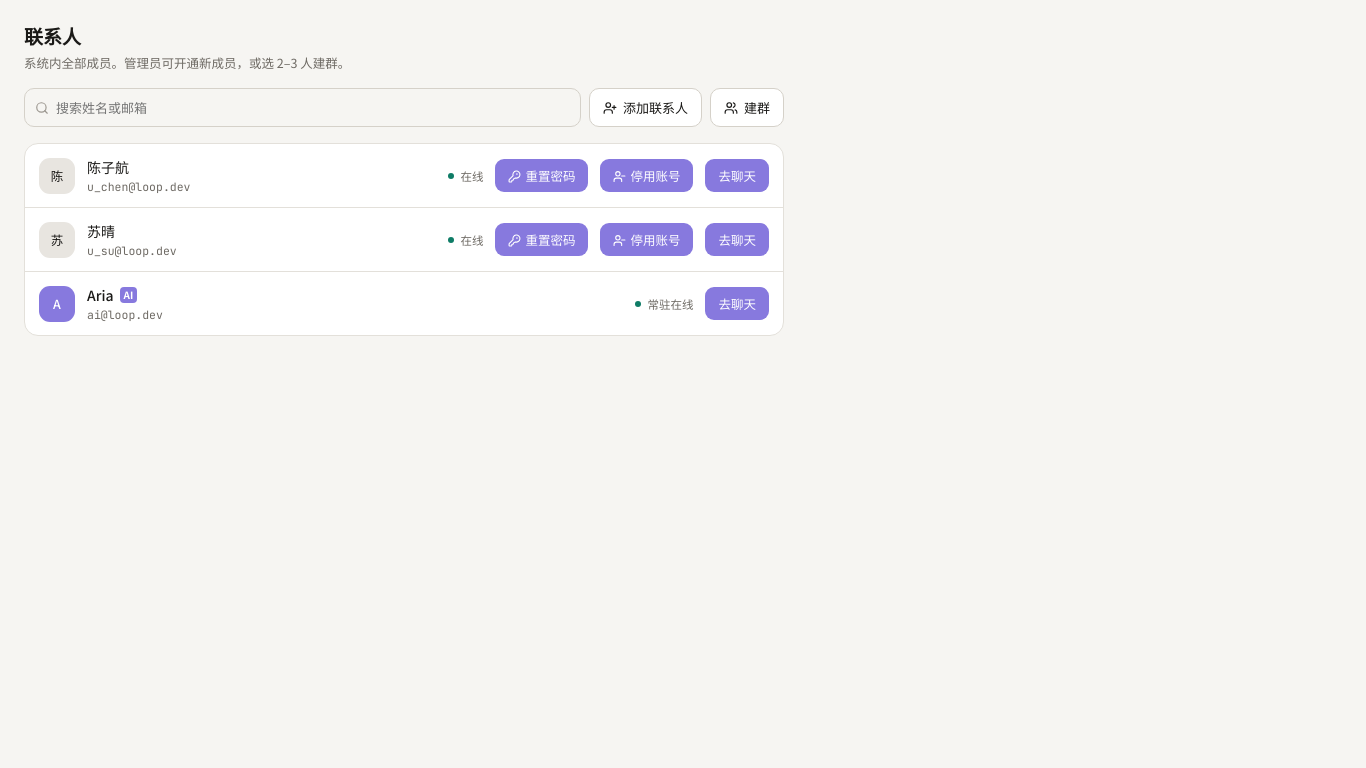
Scenario: 重置弹窗 › 取消不会调接口
The width and height of the screenshot is (1366, 768).
Click the button "重置密码" in the row of "u_chen@loop.dev" at (542, 176), box left=496, top=159, right=588, bottom=192
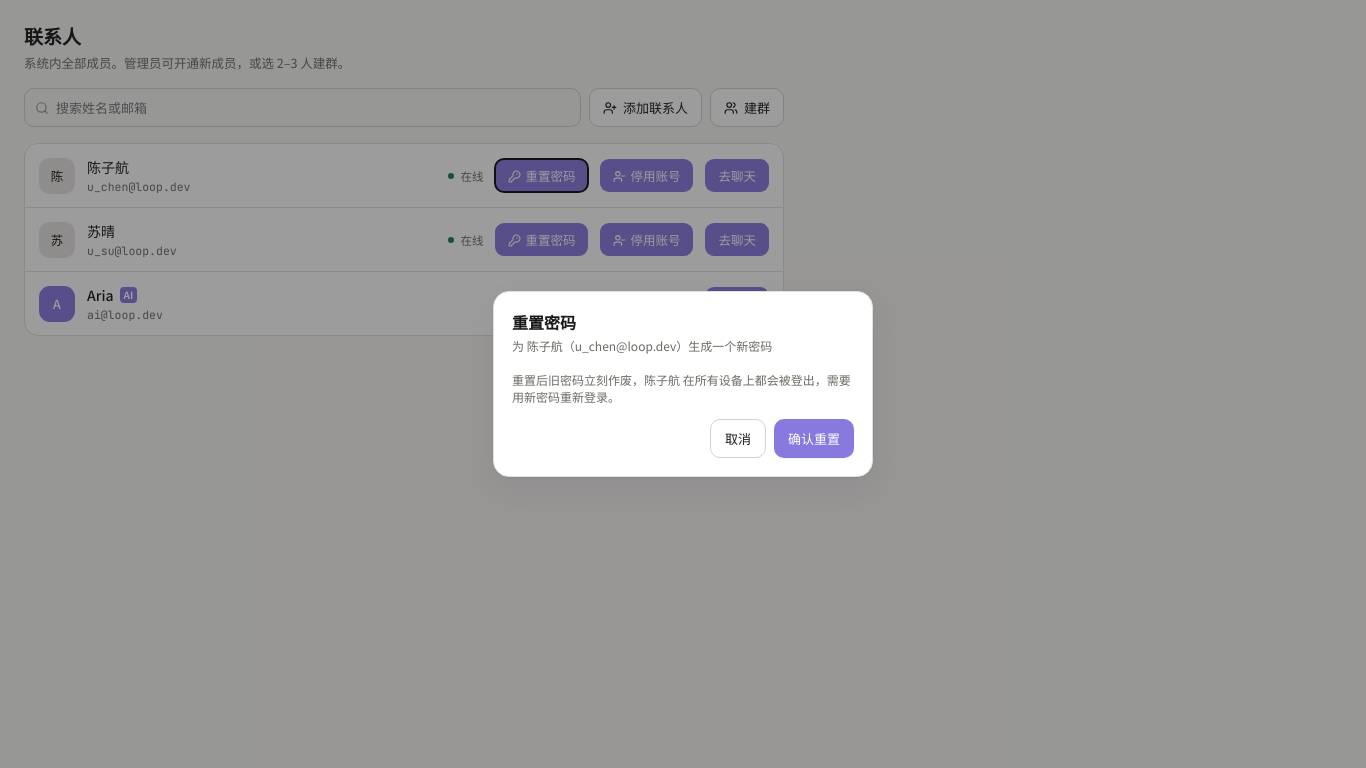
Click the button "取消" at (738, 438), box left=710, top=419, right=766, bottom=458
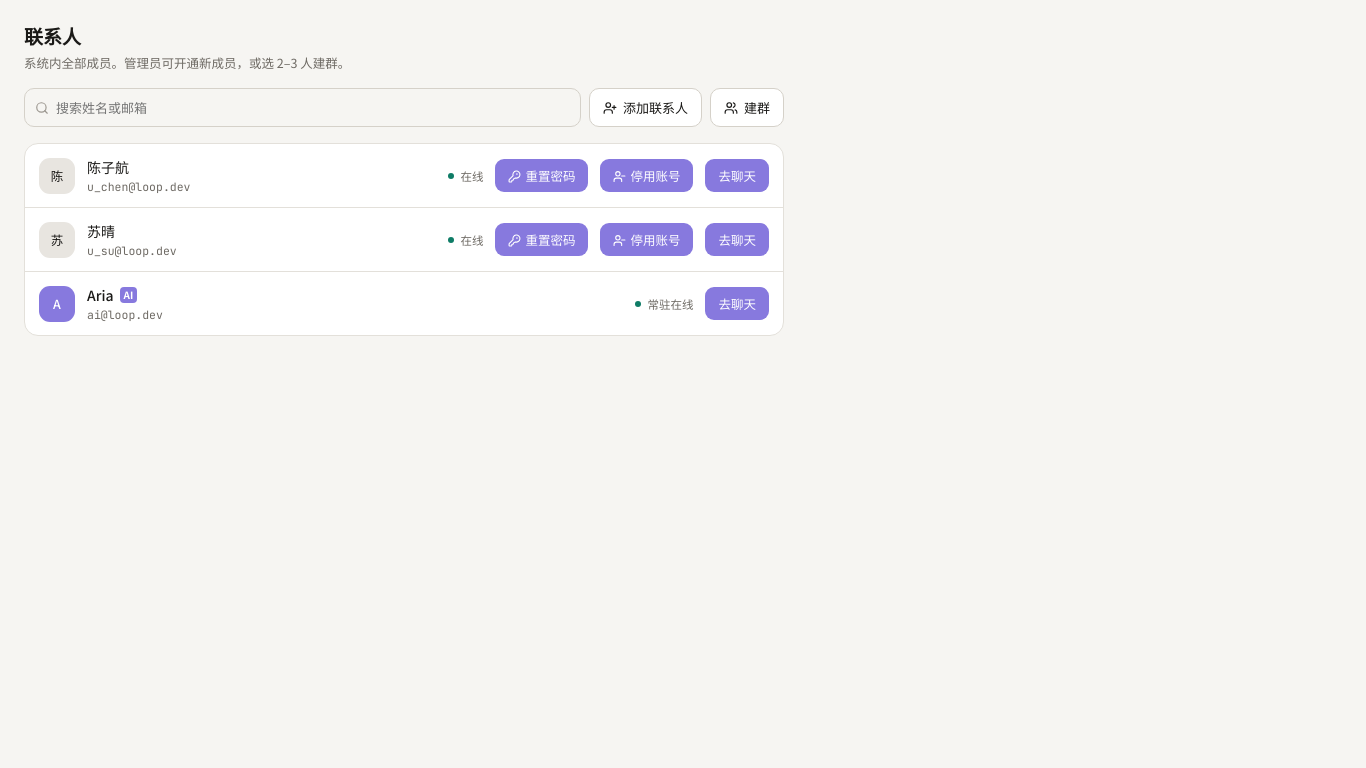
Expected: the button "确认重置" is gone
